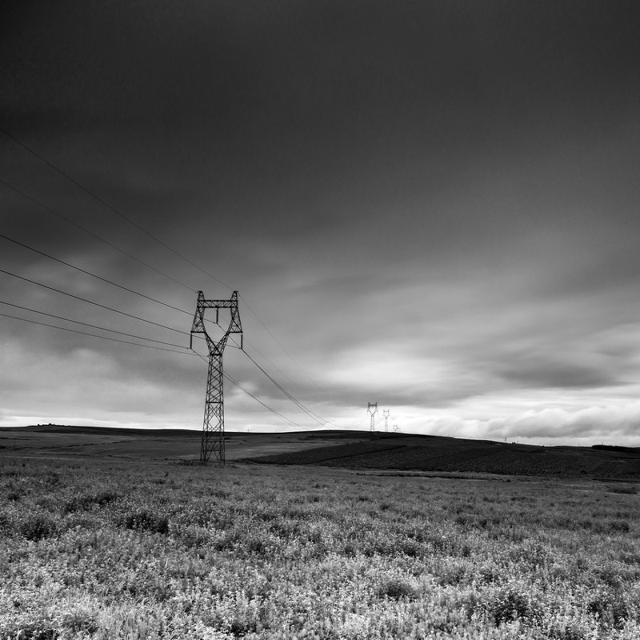non-critical vegetation: (176, 287, 248, 465)
